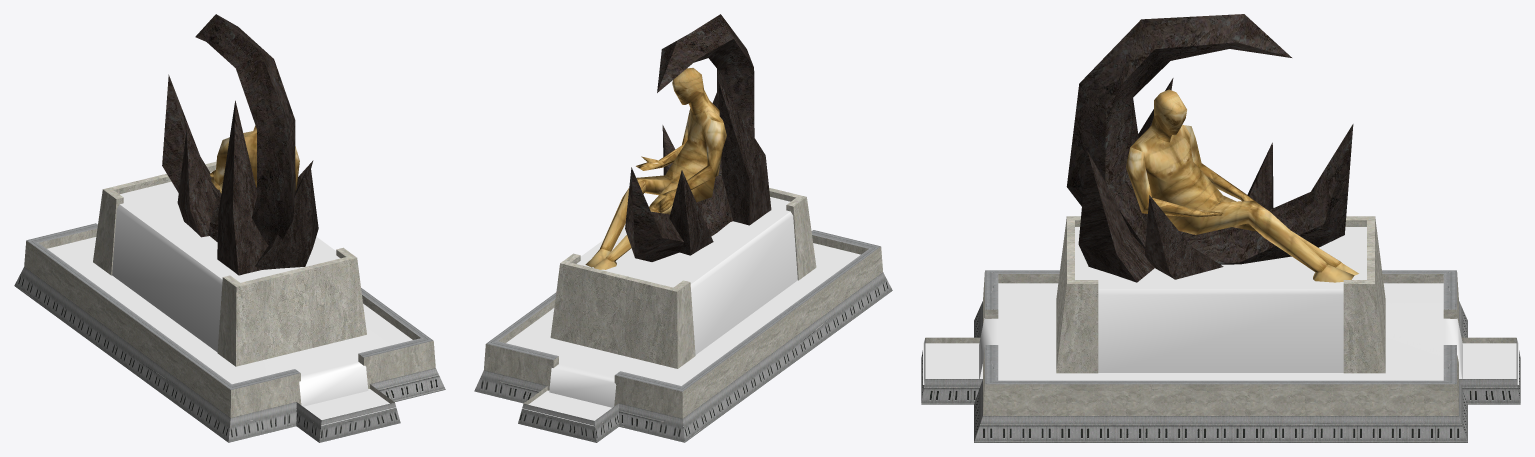
Rendered from thm_corl_fountain_statue_contemplate_s01_l2.fbx.
3 renders of one model, left to right at view 1: azimuth 30°, elevation 25°; view 2: azimuth 150°, elevation 25°; view 3: azimuth 270°, elevation 25°, orthographic. The views are drawn at different scales.
Parts seen in each view (by area): view 1: mesh_node; view 2: mesh_node; view 3: mesh_node.
Part boxes in pixels (x1,y1,x2,y2): mesh_node: (14, 14, 445, 442); mesh_node: (474, 14, 892, 442); mesh_node: (921, 14, 1520, 442).
Size of the model in its own units: 4.29 by 5.98 by 8.89.
